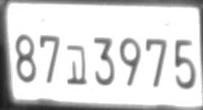3: (93, 37, 115, 86)
5: (174, 39, 196, 89)
7: (38, 34, 60, 82), (145, 38, 166, 87)
8: (15, 33, 36, 83)
9: (118, 37, 141, 86)
고: (65, 44, 87, 84)
